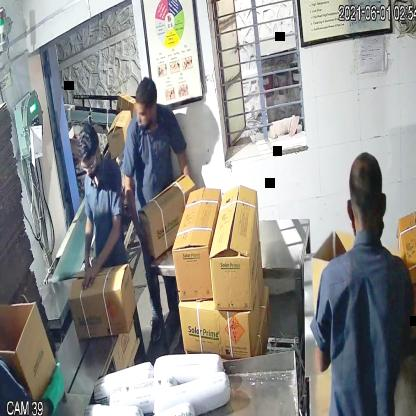goggles: (77, 149, 104, 180)
